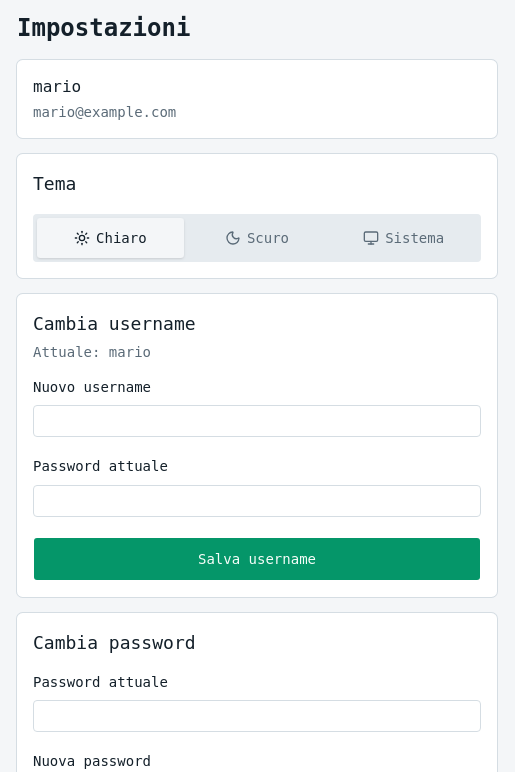
Scenario: SettingsPage › il cambio password richiede che le nuove password coincidano
Type "Password123!" into the password field labelled "Password attuale" below "Cambia password" at (257, 716), box [33,700,481,732]
(page scrolled)
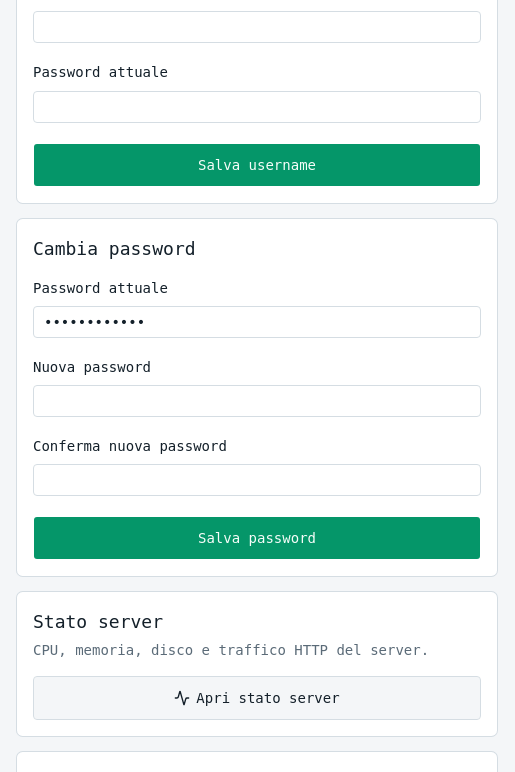
Type "Nuova123!" into the password field labelled "Nuova password" at (257, 401), box [33,385,481,417]
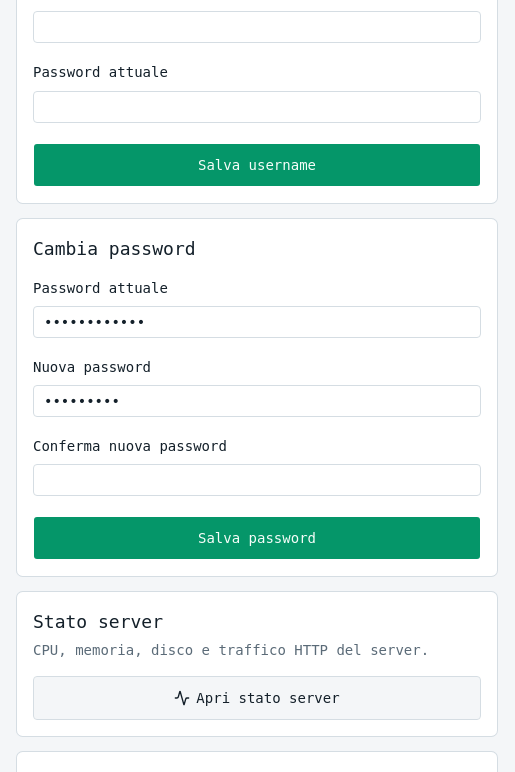
Type "Diversa123!" into the password field labelled "Conferma nuova password" at (257, 480), box [33,464,481,496]
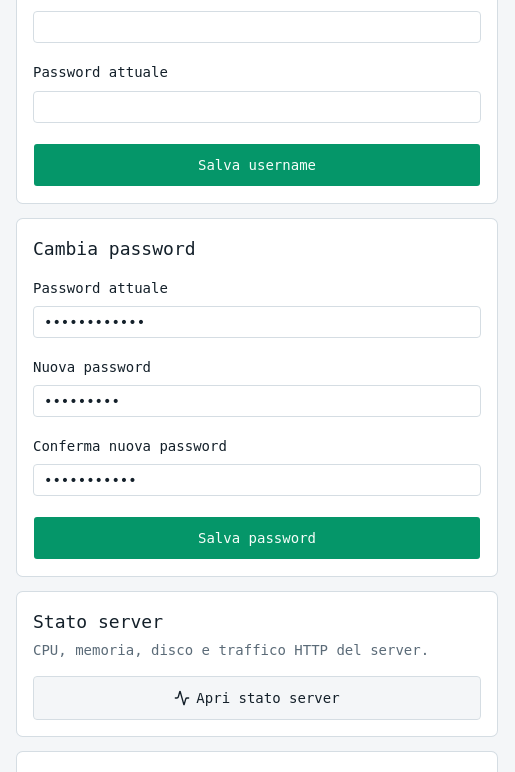
Click the button "Salva password" at (257, 538), box [33,516,481,560]
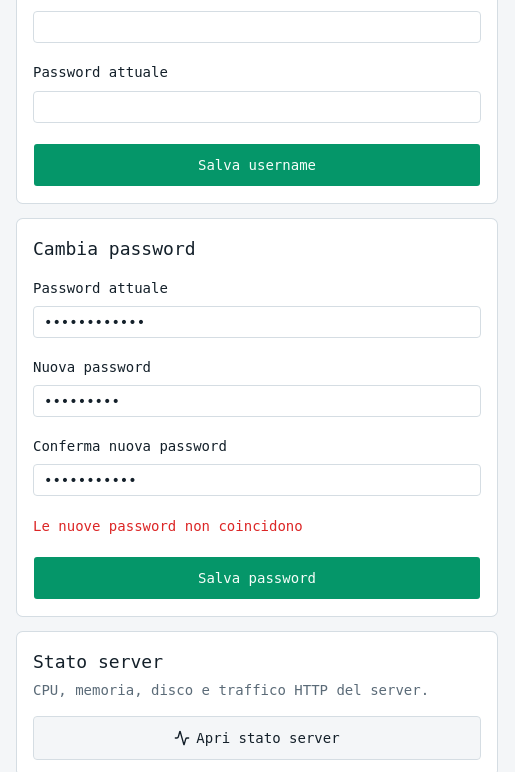
Now the text "Le nuove password non coincidono" is shown, box [33,518,303,534]
